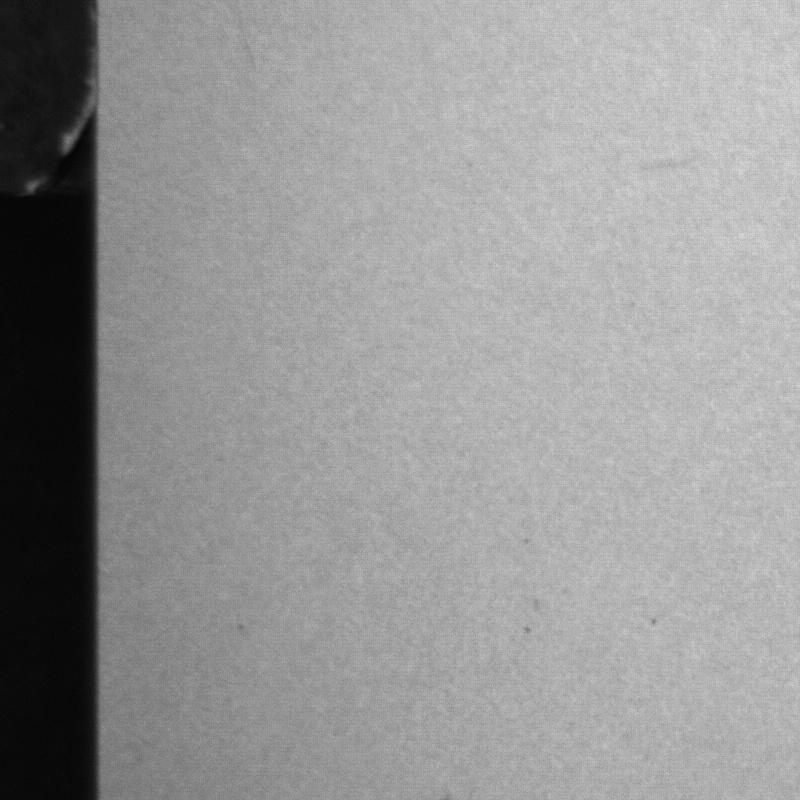defect: (631, 158, 699, 176)
